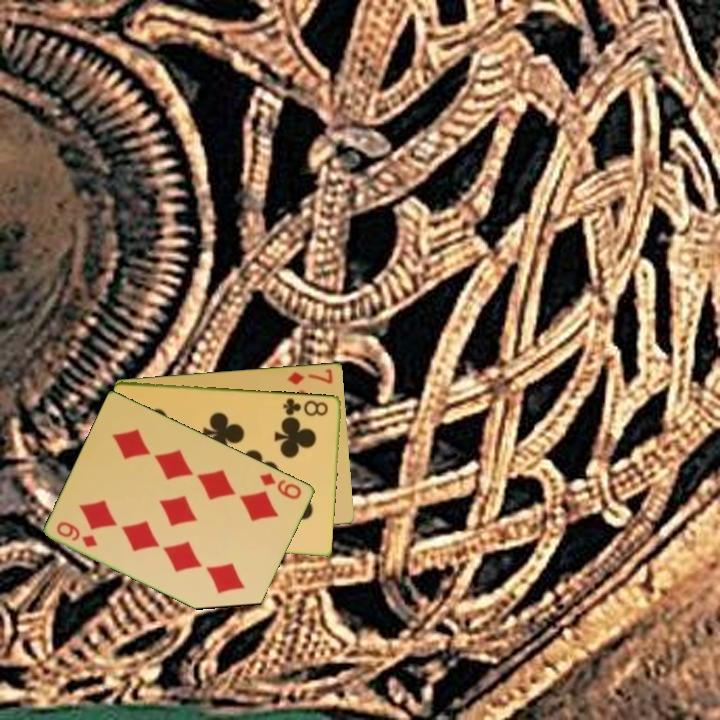7d: (284, 365, 336, 387)
8c: (280, 394, 331, 419)
9d: (256, 469, 305, 502), (53, 518, 101, 550)
